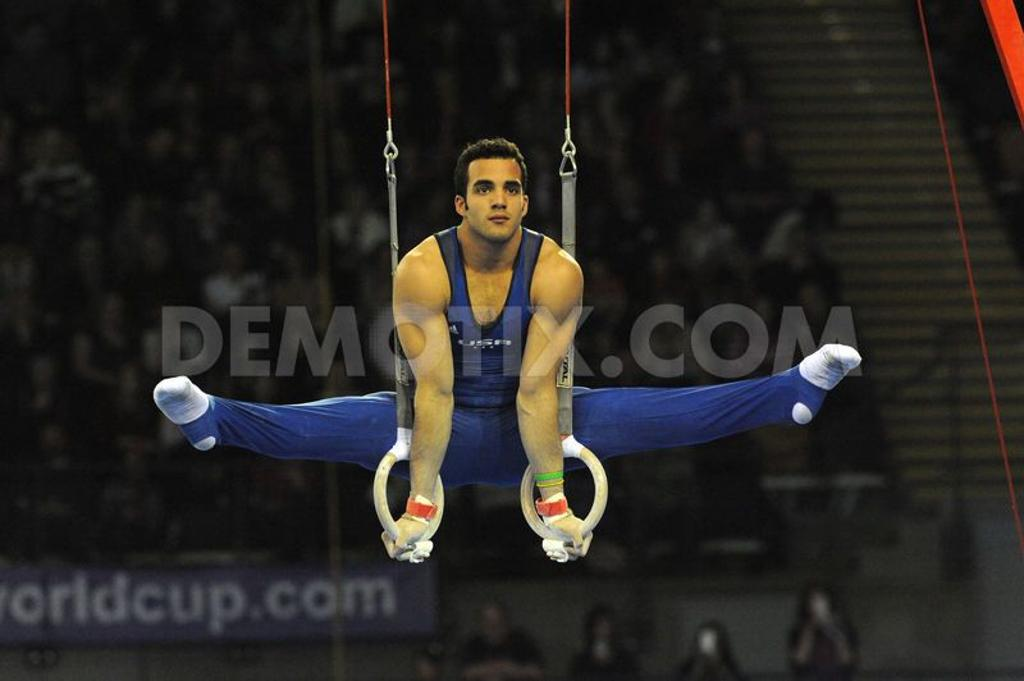face: (465, 157, 523, 241)
